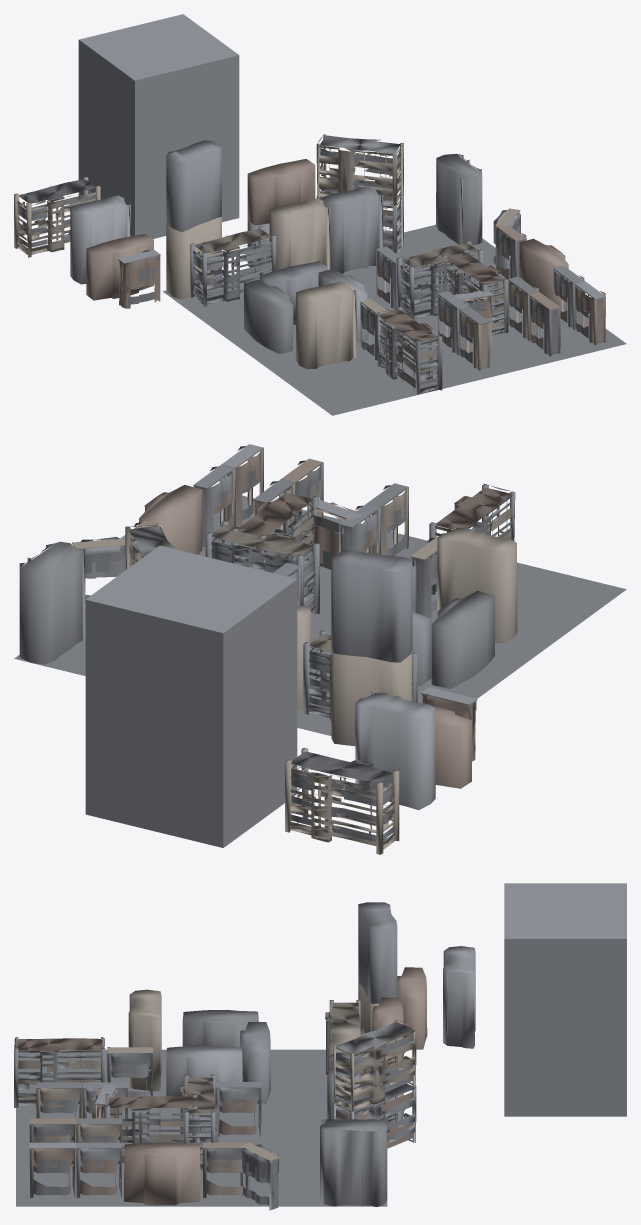
Rendered from street_city_buildings_8.glb.
3 views of the same model, one above another, from view 1: azimuth 30°, elevation 25°; view 2: azimuth 150°, elevation 25°; view 3: azimuth 270°, elevation 25° (orthographic). The views are drawn at different scales.
Parts seen in each view (by area): view 1: world; view 2: world; view 3: world.
Part boxes in pixels (x1,y1,x2,y2): world: [14, 14, 626, 415]; world: [14, 444, 626, 854]; world: [14, 883, 626, 1210].
Size of the model in its own units: 25.89 by 11.16 by 34.
